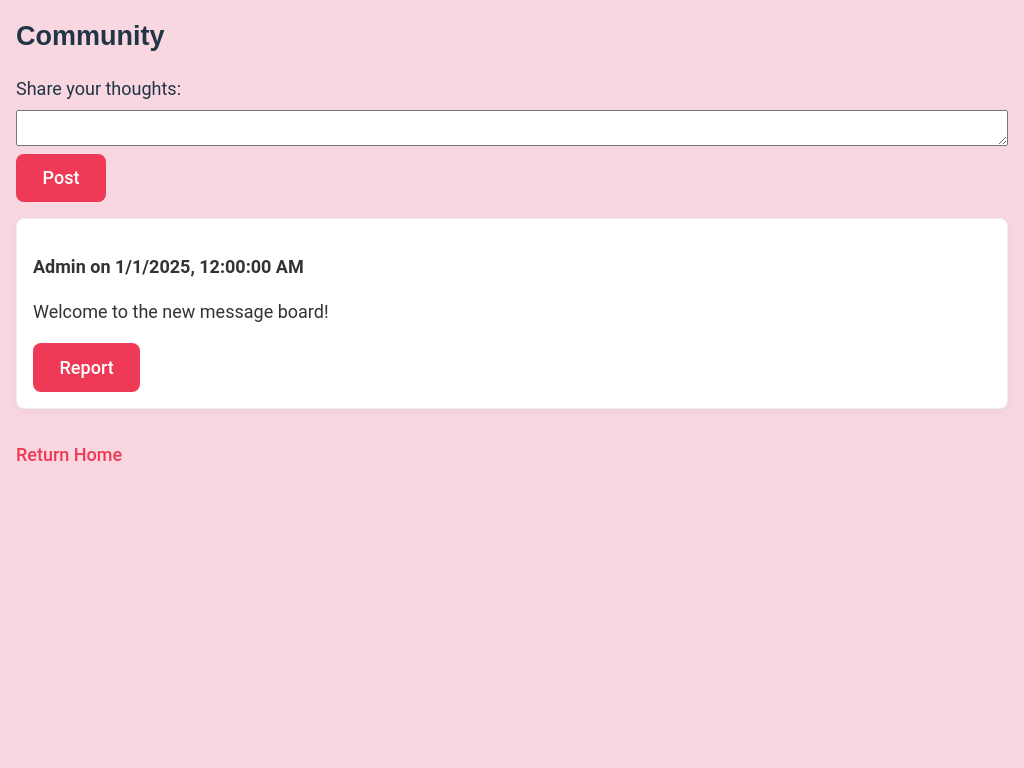
Test case: CommunityPage › adds a post via the form
The image size is (1024, 768).
Type "New message" into the text box labelled "Share your thoughts:" at (512, 128), box [16, 110, 1008, 146]
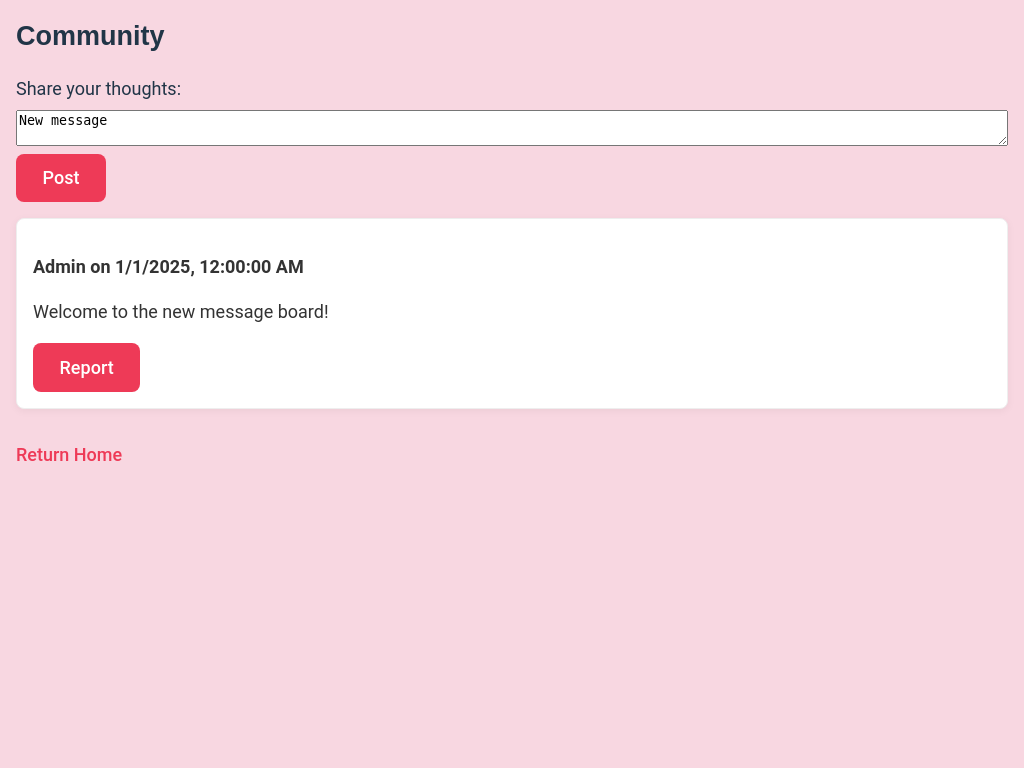
Click the button "Post" at (61, 178), box [16, 154, 106, 202]
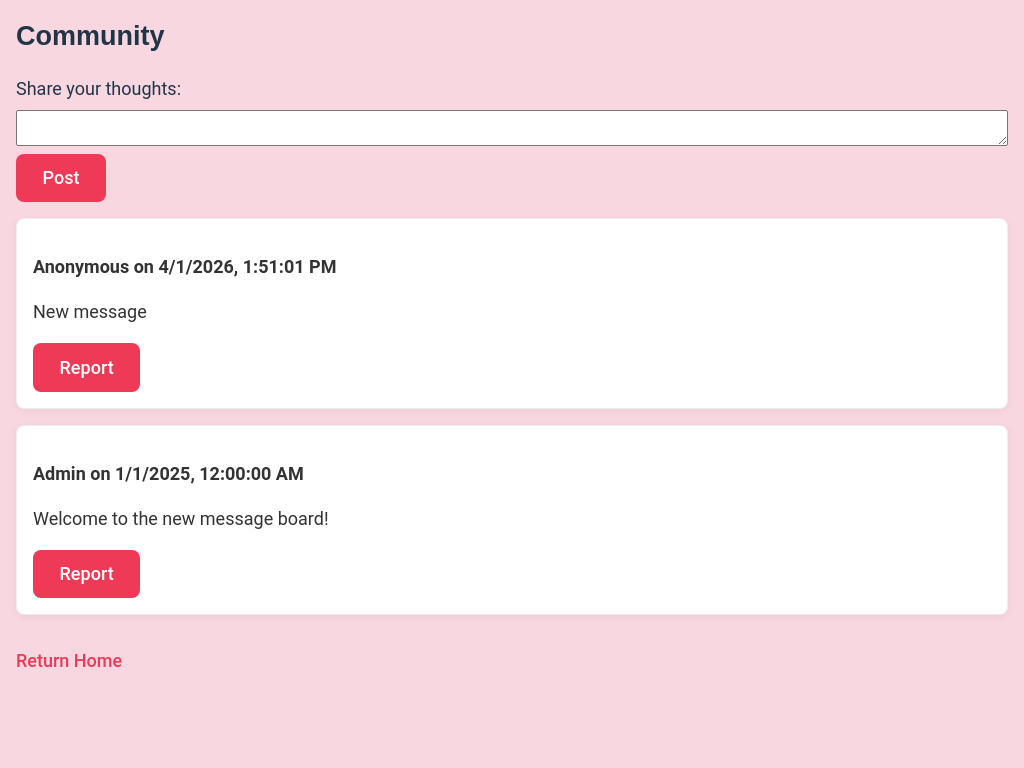
Now the text "New message" is shown once, box [33, 301, 147, 322]
